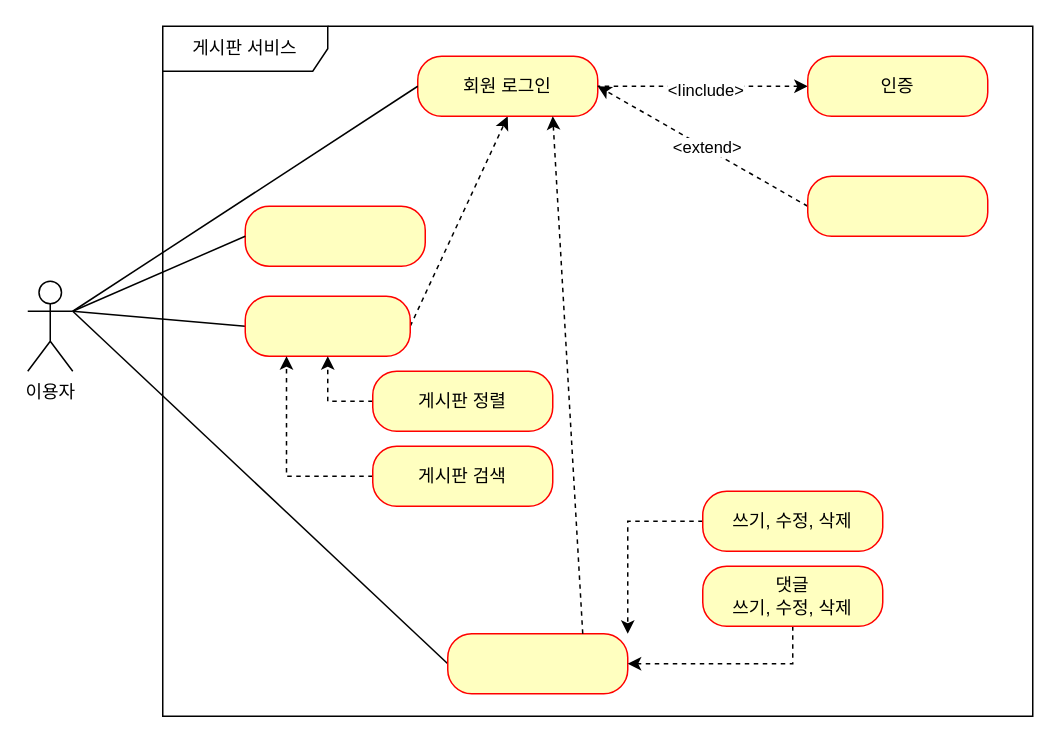
This 1059x743 diagram has some shape labels left out. The centre of each missing label's shape, as x and y in pixels:
게시글 보기: the point at 537,663
게시판 보기: the point at 327,325
실패: the point at 897,205
회원가입: the point at 334,235
